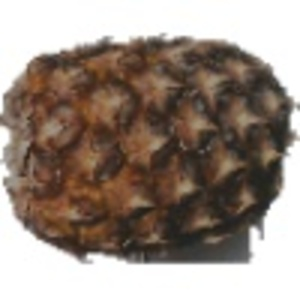abacaxi: (3, 32, 292, 251)
